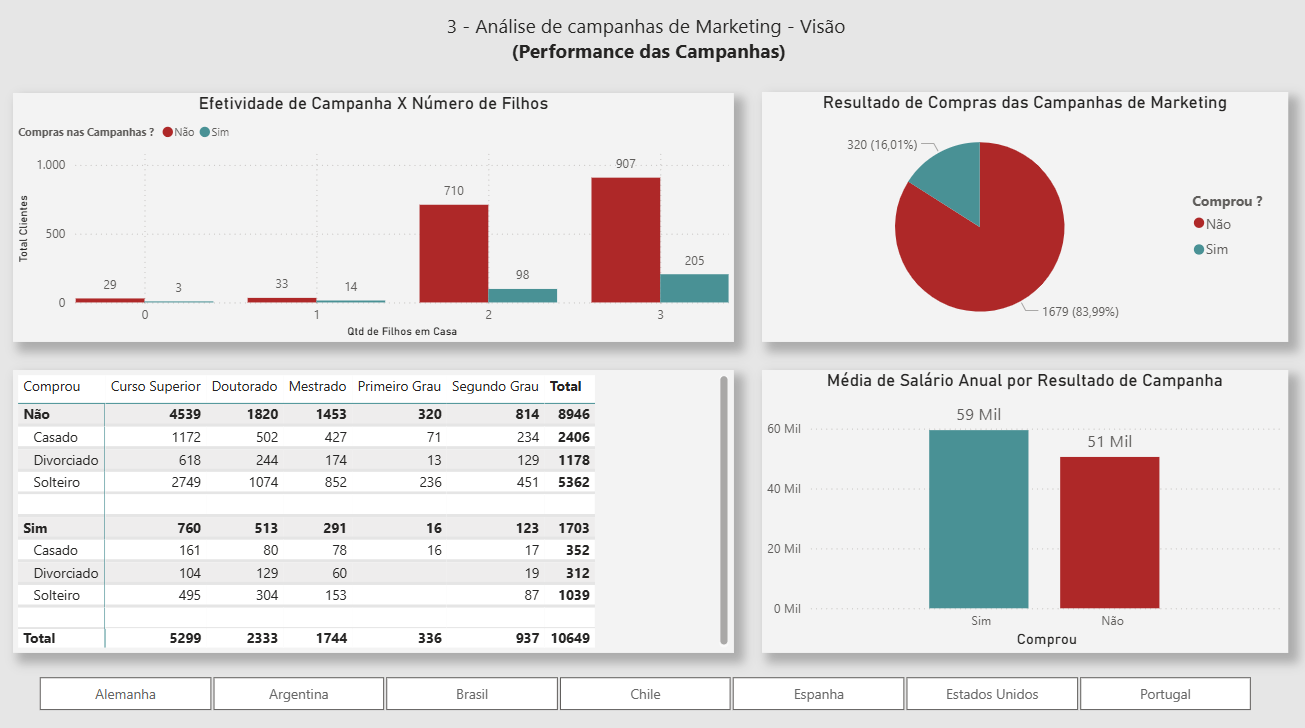

What the dashboard file says about the page in this screenshot:
{"tool":"powerbi","page":{"name":"Visão Campanhas","canvas":[1280,720],"ordinal":2},"visuals":[{"type":"textbox","box":[312.5,15.5,641.6,60],"z":0},{"type":"clusteredColumnChart","title":"Média de Salário Anual por Resultado de Campanha ","fields":{"Category":["Fmarketing.Comprou"],"Y":["Avg(Fmarketing.Salario Anual)"]},"box":[742.8,368.6,511.6,274.8],"z":1000},{"type":"pivotTable","title":"Relação entre gasto total e quantidade de Adolescentes","fields":{"Rows":["Fmarketing.Comprou","Fmarketing.Estado Civil"],"Values":["Sum(Fmarketing.Numero Visitas WebSite Mes)"],"Columns":["Fmarketing.Escolaridade"]},"box":[14.5,368.6,701.4,274.8],"z":2000},{"type":"slicer","fields":{"Values":["Fmarketing.Pais"]},"box":[14.5,660.2,1228.3,45.5],"z":3000},{"type":"pieChart","title":"Resultado de Compras das Campanhas de Marketing","fields":{"Category":["Fmarketing.Comprou"],"Y":["CountNonNull(Fmarketing.ID)"]},"box":[742.8,98.3,511.6,243.5],"z":4000},{"type":"clusteredColumnChart","title":"Efetividade de Campanha X Número de Filhos","fields":{"Category":["Fmarketing.Filhos em Casa"],"Series":["Fmarketing.Comprou"],"Y":["CountNonNull(Fmarketing.Filhos em Casa)"]},"box":[14.5,99.4,701.4,242.4],"z":5000}]}

Visuals, with their boxes in screenshot pixels (x1, y1, x2, y2), scaled from the page's 1280x720 canvas onto the 1305x728 screenshot:
textbox: [319,16,973,76]
"Média de Salário Anual por Resultado de Campanha " clusteredColumnChart: [757,373,1279,651]
"Relação entre gasto total e quantidade de Adolescentes" pivotTable: [15,373,730,651]
slicer - Fmarketing.Pais: [15,668,1267,714]
"Resultado de Compras das Campanhas de Marketing" pieChart: [757,99,1279,346]
"Efetividade de Campanha X Número de Filhos" clusteredColumnChart: [15,101,730,346]
